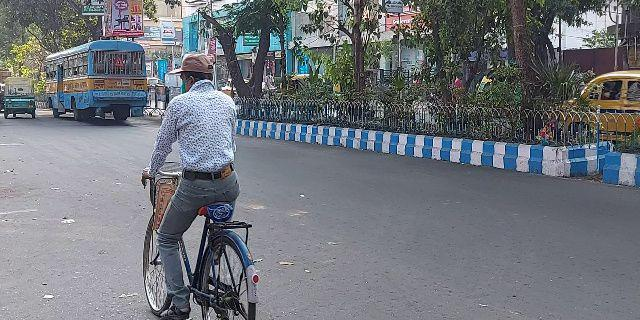Autorickshaw: (3, 74, 37, 121)
Bus: (42, 41, 149, 126)
Cycle: (137, 51, 262, 320)
